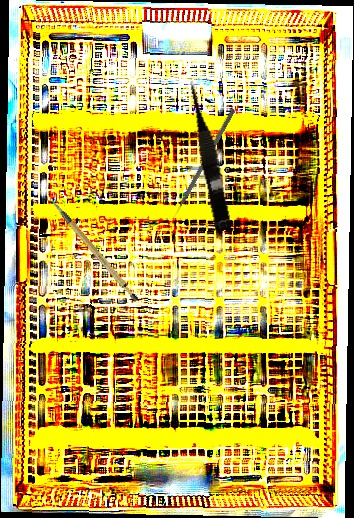Hook Surgical: (168, 107, 236, 223)
Micro Scissor: (183, 78, 236, 232)
Scalpel Handle: (50, 187, 141, 312)
